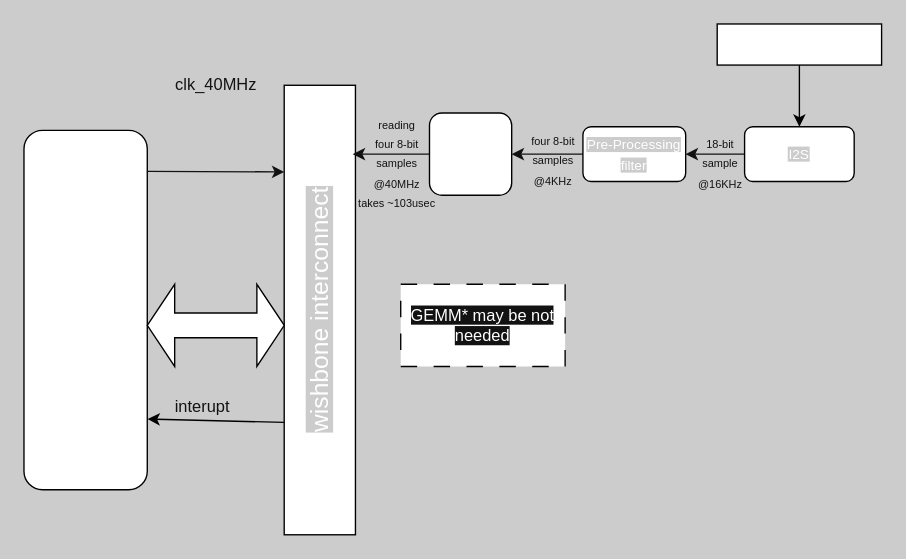
Image size: 906x559. Some labels were removed from this diagram. The shapes that lost their labels are listed below. From the top down, each one's centre as x and y in pixels, then its label:
(x=799, y=44): GPIO
(x=470, y=153): 32bit DPRAM (4K deep) 2 sec audio
(x=85, y=309): caravel host
